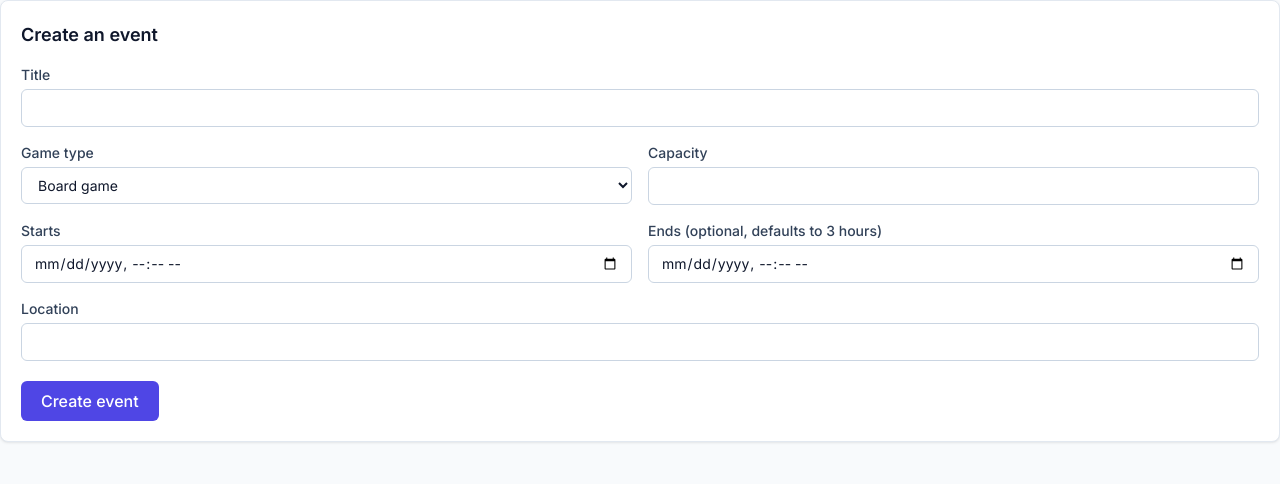
Test: CreateEventForm › validates the optional end time against the start
This screenshot has width=1280, height=484.
Type "Sealed League Night" into the field labelled "Title".
click(640, 108); type("Sealed League Night")  # box [21,89,1259,127]
Select "TCG" in the dropdown labelled "Game type" at {"x": 326, "y": 186}, box [21,167,632,204]
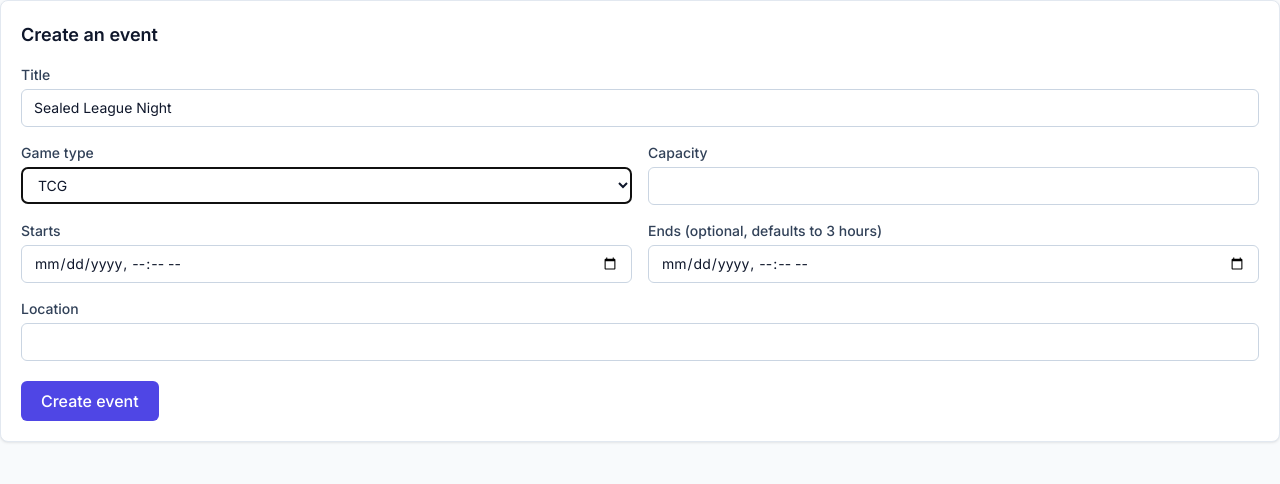
Type "8" into the number field labelled "Capacity".
click(954, 186); type("8")  # box [648,167,1259,205]
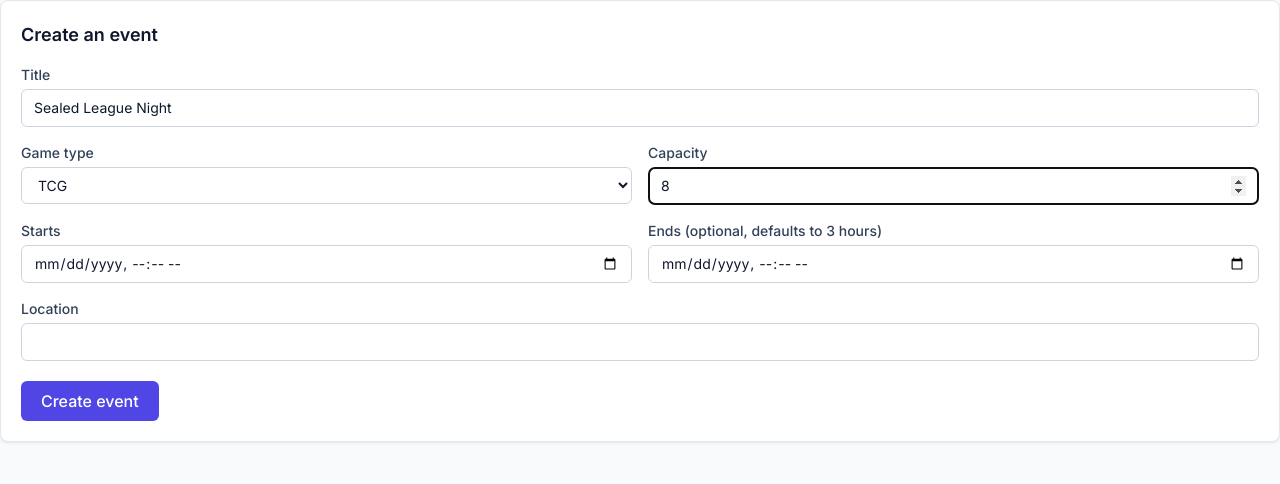
Type "2027-06-01T19:00" into the field labelled "Starts".
click(326, 264); type("2027-06-01T19:00")  # box [21,245,632,283]
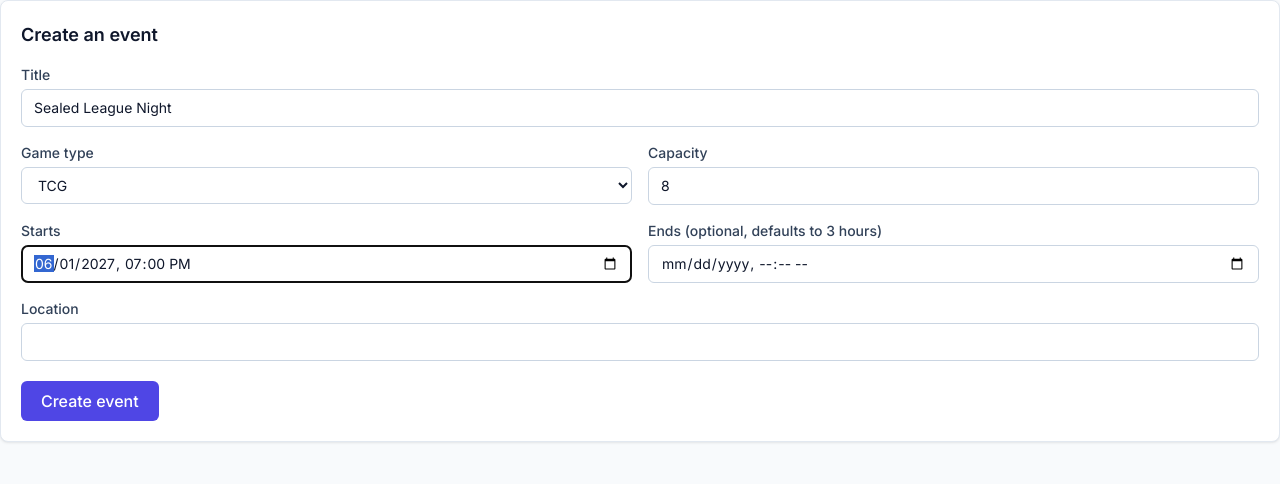
Type "Card Kingdom, Ballard" into the field labelled "Location".
click(640, 342); type("Card Kingdom, Ballard")  # box [21,323,1259,361]
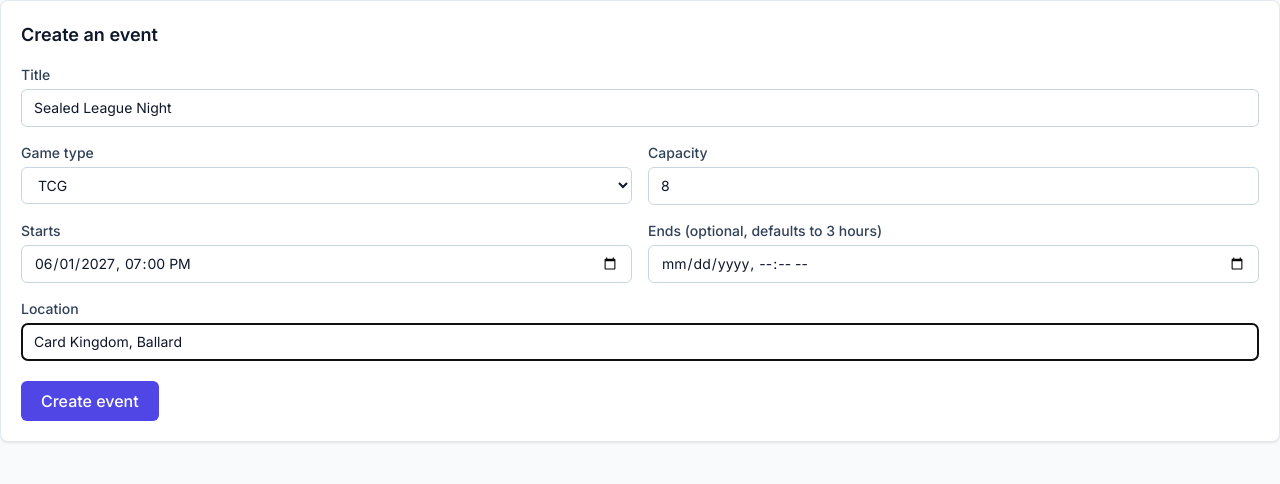
Type "2027-06-01T18:00" into the field labelled "Ends (optional, defaults to 3 hours)".
click(954, 264); type("2027-06-01T18:00")  # box [648,245,1259,283]
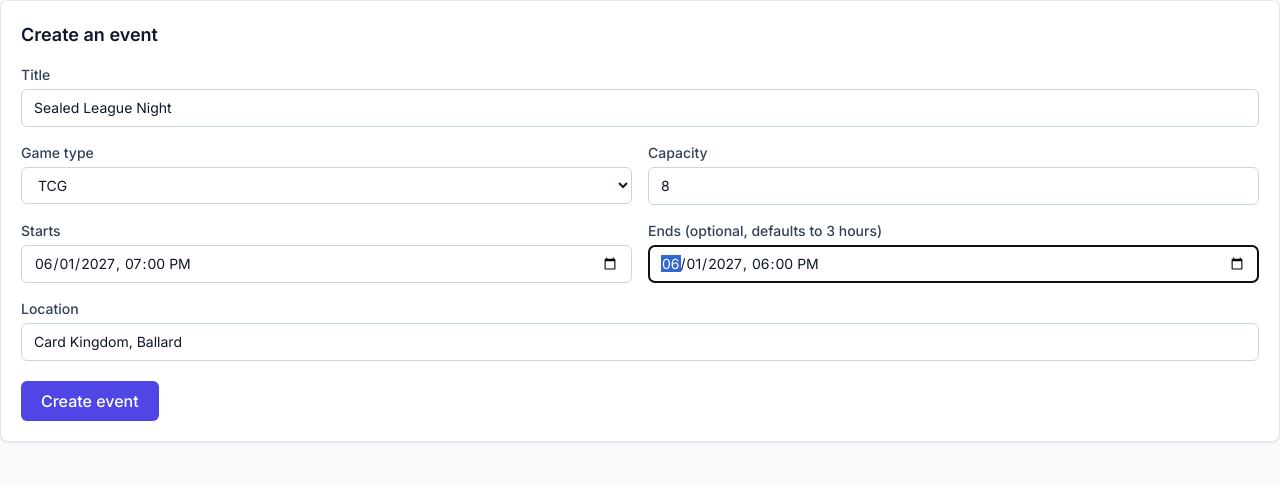
Click the button "Create event".
click(90, 401)  # box [21,381,159,421]
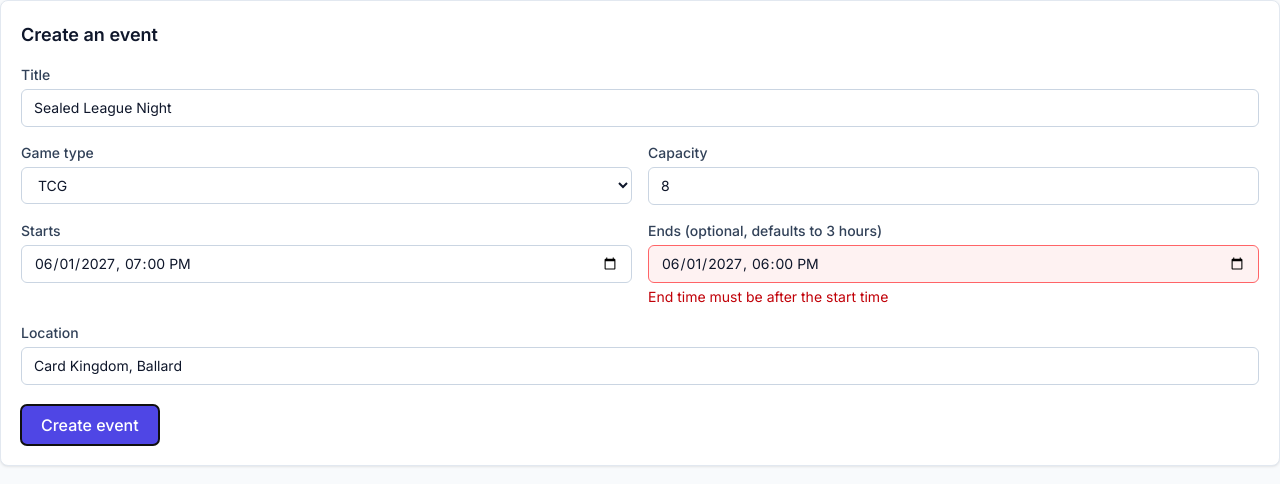
Result: the text with test id "error-ends_at" reads "End time must be after the start time" at [648,288,888,305]
